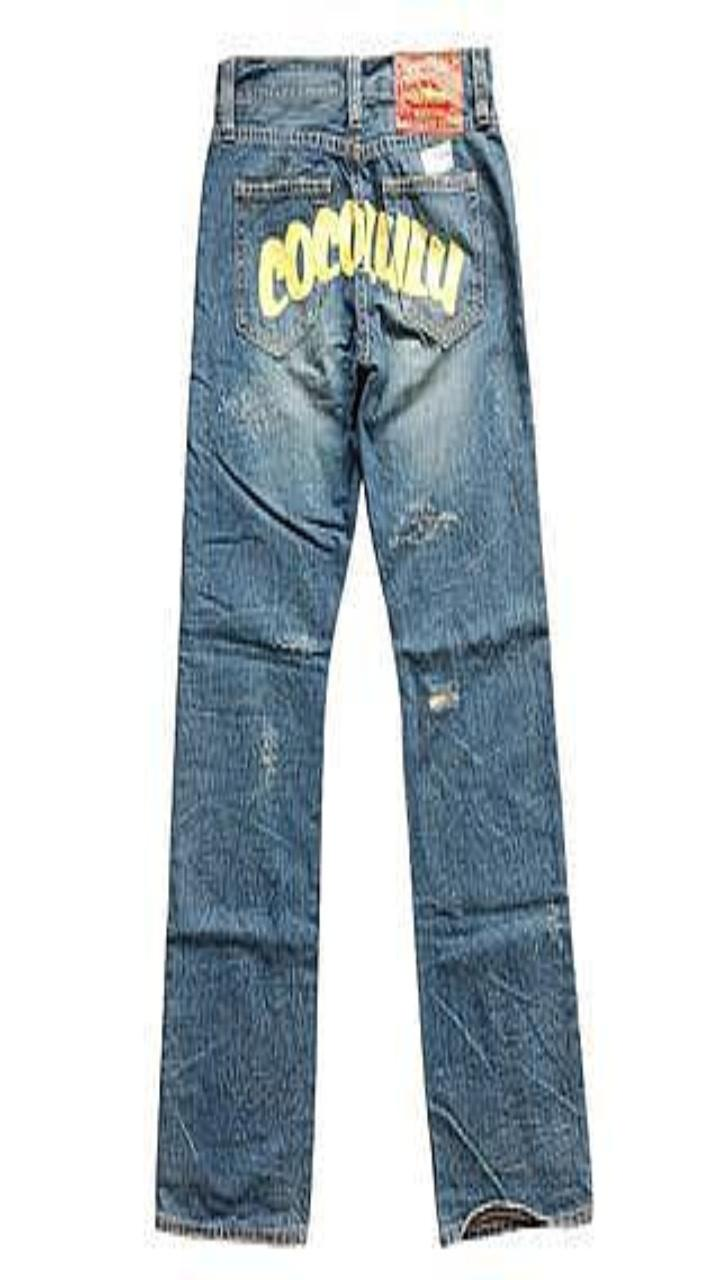Jeans: (156, 49, 590, 1243)
